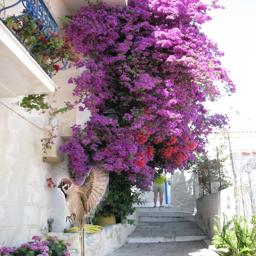Sparrow: (57, 148, 109, 256)
